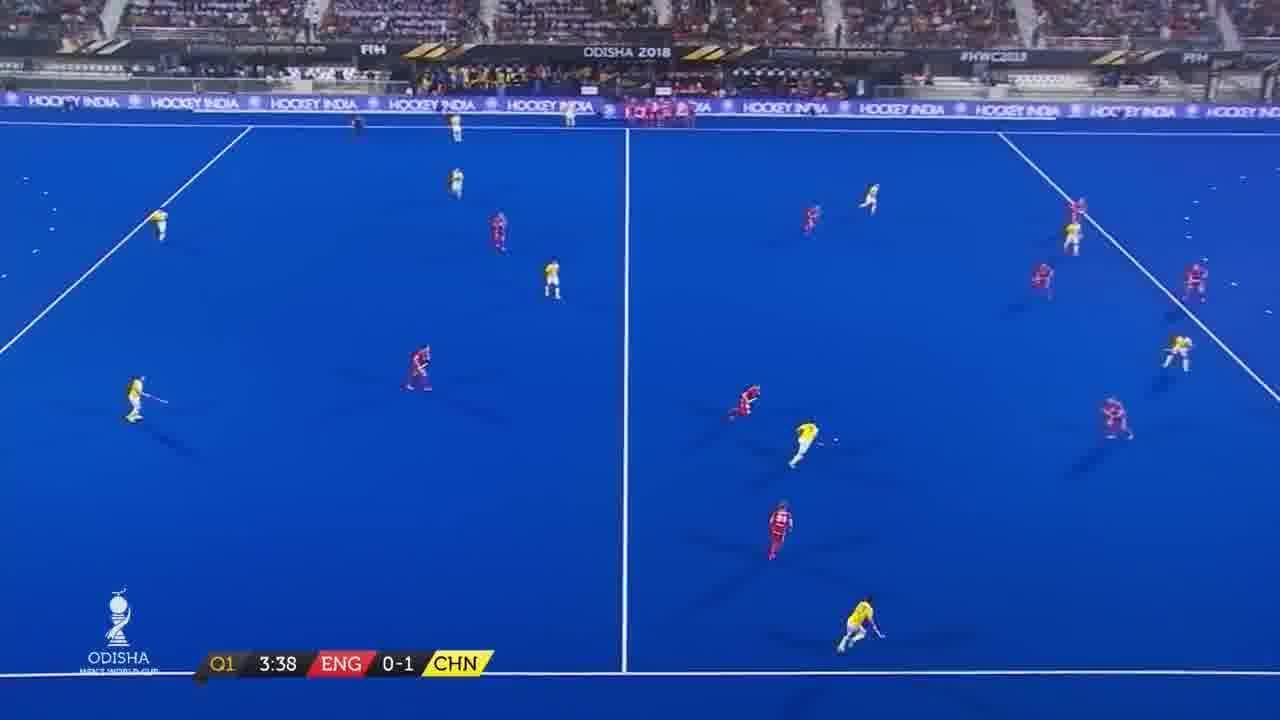ball: (828, 433, 842, 448)
